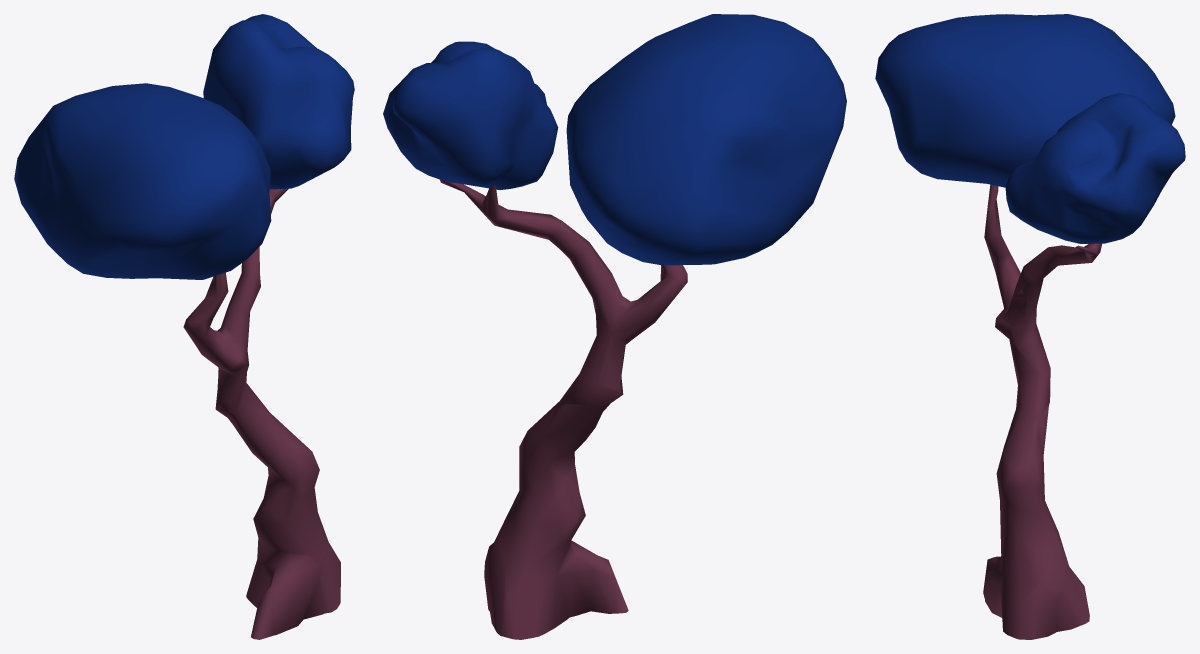
Rendered from tree 1.fbx.
3 views of the same model, side by side, from view 1: azimuth 30°, elevation 25°; view 2: azimuth 150°, elevation 25°; view 3: azimuth 270°, elevation 25° (orthographic). The views are drawn at different scales.
Visible parts, largest first — view 1: tree_1; view 2: tree_1; view 3: tree_1.
Boxes of the visible parts, x1,y1,x2,y2 form: tree_1: (14,14,354,639); tree_1: (383,14,846,639); tree_1: (875,14,1185,639).
Size of the model in its own units: 5.33 by 4.58 by 8.57.
